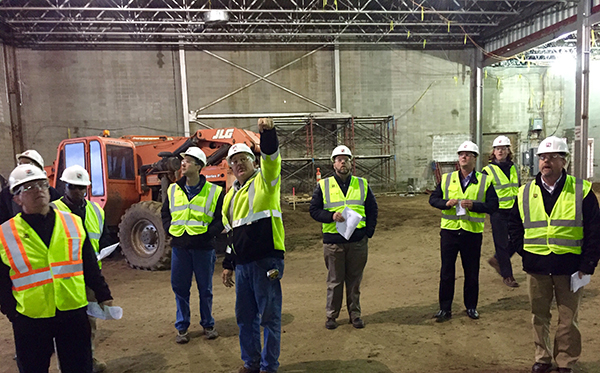epi: (1, 163, 129, 366), (518, 131, 600, 361), (220, 142, 294, 373), (309, 144, 385, 331), (427, 141, 496, 325), (161, 143, 224, 333), (480, 135, 531, 290), (54, 162, 107, 240), (6, 141, 48, 178)
